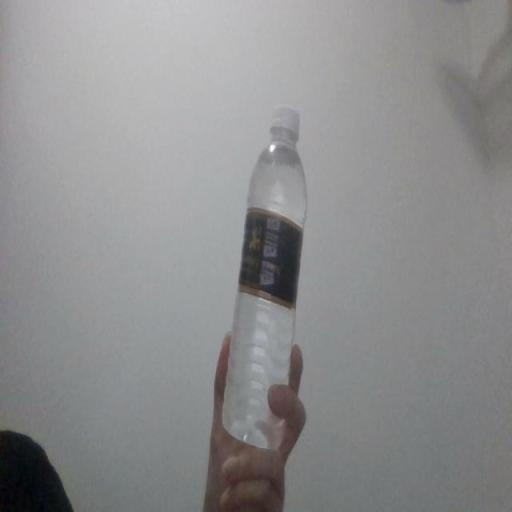plastic: (222, 107, 308, 452)
